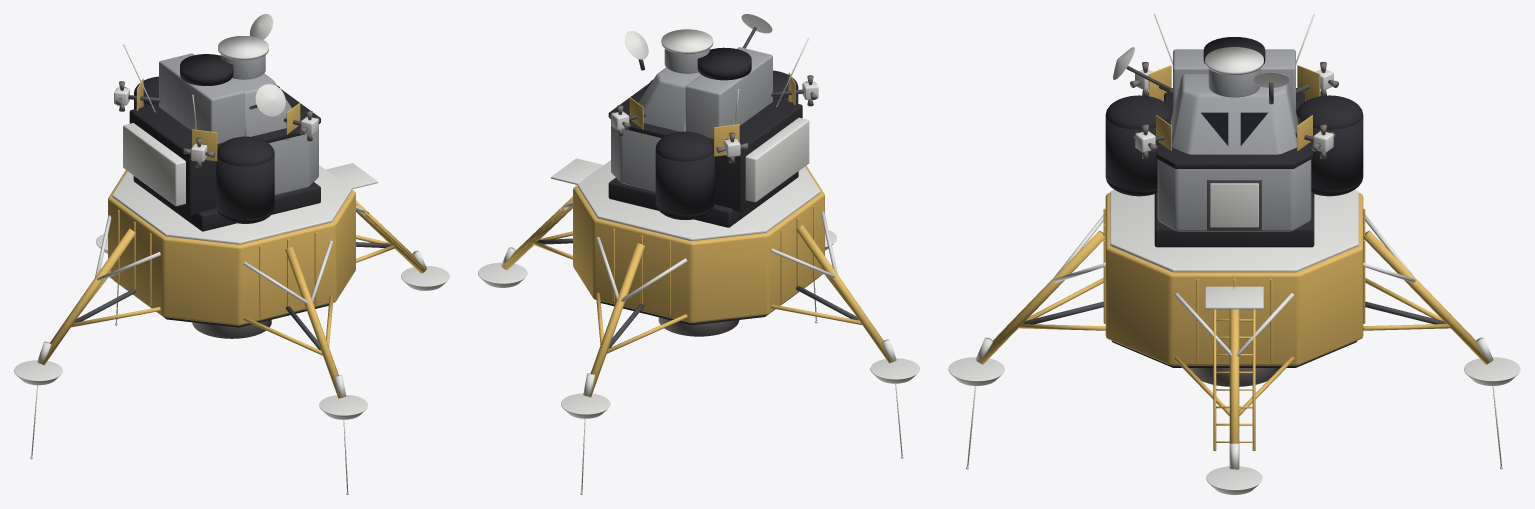
The model's file is apollo_lm.glb.
3 views of the same model, side by side, from view 1: azimuth 30°, elevation 25°; view 2: azimuth 150°, elevation 25°; view 3: azimuth 270°, elevation 25° (orthographic). The views are drawn at different scales.
Visible parts, largest first — view 1: descent_body, deck, midsection, aft_bay, aft_racks, tank_-1, cabin_lower, ascent_base, cabin_upper, ascent_engine_cover, tank_cap_top_-1, leg_primary_2 (+12 smaller); view 2: descent_body, deck, midsection, aft_bay, aft_racks, tank_1, cabin_lower, cabin_upper, ascent_base, ascent_engine_cover, tank_cap_top_1, leg_primary_2 (+12 smaller); view 3: descent_body, deck, cabin_upper, cabin_lower, ascent_base, tank_1, tank_-1, cabin_chamfer, hatch, midsection, tank_cap_top_1, tank_cap_top_-1 (+12 smaller).
Part boxes in pixels (<box>): descent_body: <box>108,170,355,325</box>; deck: <box>112,165,351,244</box>; midsection: <box>159,53,244,143</box>; aft_bay: <box>129,103,223,215</box>; aft_racks: <box>123,123,185,206</box>; tank_-1: <box>216,155,274,219</box>; cabin_lower: <box>269,125,318,195</box>; ascent_base: <box>133,176,320,231</box>; cabin_upper: <box>220,55,291,136</box>; ascent_engine_cover: <box>180,54,233,85</box>; tank_cap_top_-1: <box>217,136,274,166</box>; leg_primary_2: <box>39,228,136,365</box>; descent_body: <box>573,165,824,323</box>; deck: <box>577,160,820,241</box>; midsection: <box>685,47,772,138</box>; aft_bay: <box>708,97,802,212</box>; aft_racks: <box>745,117,809,202</box>; tank_1: <box>655,150,714,215</box>; cabin_lower: <box>611,120,661,191</box>; cabin_upper: <box>638,49,710,131</box>; ascent_base: <box>608,171,798,227</box>; ascent_engine_cover: <box>697,47,751,80</box>; tank_cap_top_1: <box>655,131,713,161</box>; leg_primary_2: <box>796,224,893,363</box>; descent_body: <box>1105,193,1363,365</box>; deck: <box>1110,190,1358,272</box>; cabin_upper: <box>1170,74,1298,154</box>; cabin_lower: <box>1157,159,1311,231</box>; ascent_base: <box>1154,192,1314,247</box>; tank_1: <box>1311,116,1363,190</box>; tank_-1: <box>1105,116,1157,190</box>; cabin_chamfer: <box>1156,120,1312,168</box>; hatch: <box>1210,183,1258,227</box>; midsection: <box>1173,49,1295,111</box>; tank_cap_top_1: <box>1296,95,1363,129</box>; tank_cap_top_-1: <box>1105,95,1172,129</box>.
Size of the model in its own units: 9.32 by 7.68 by 9.32.
